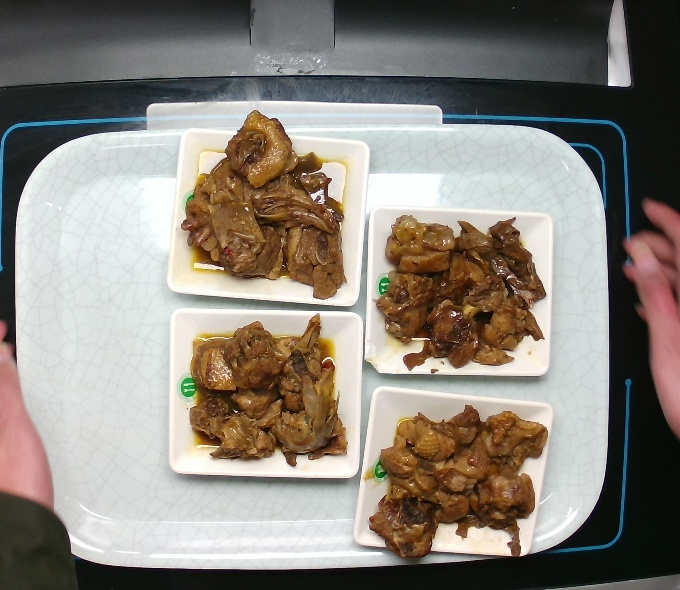wcq-HongShaoJi: (175, 105, 356, 302), (367, 210, 554, 370), (371, 402, 546, 562), (189, 316, 360, 465)
